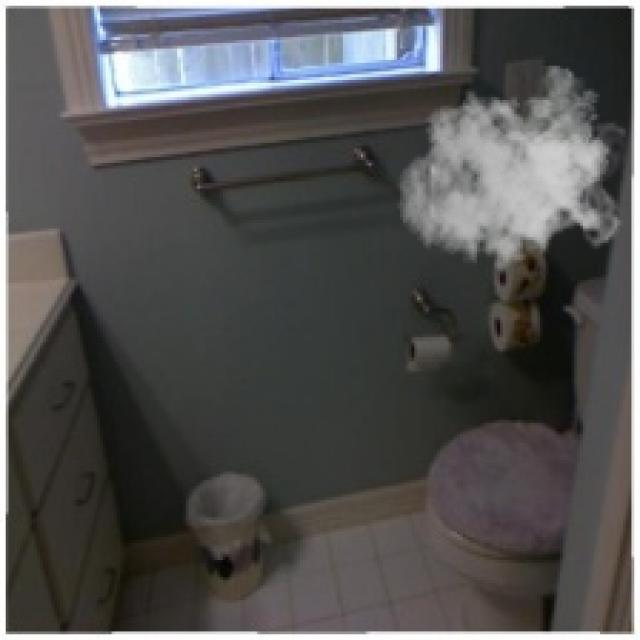smoke: (397, 66, 626, 286)
